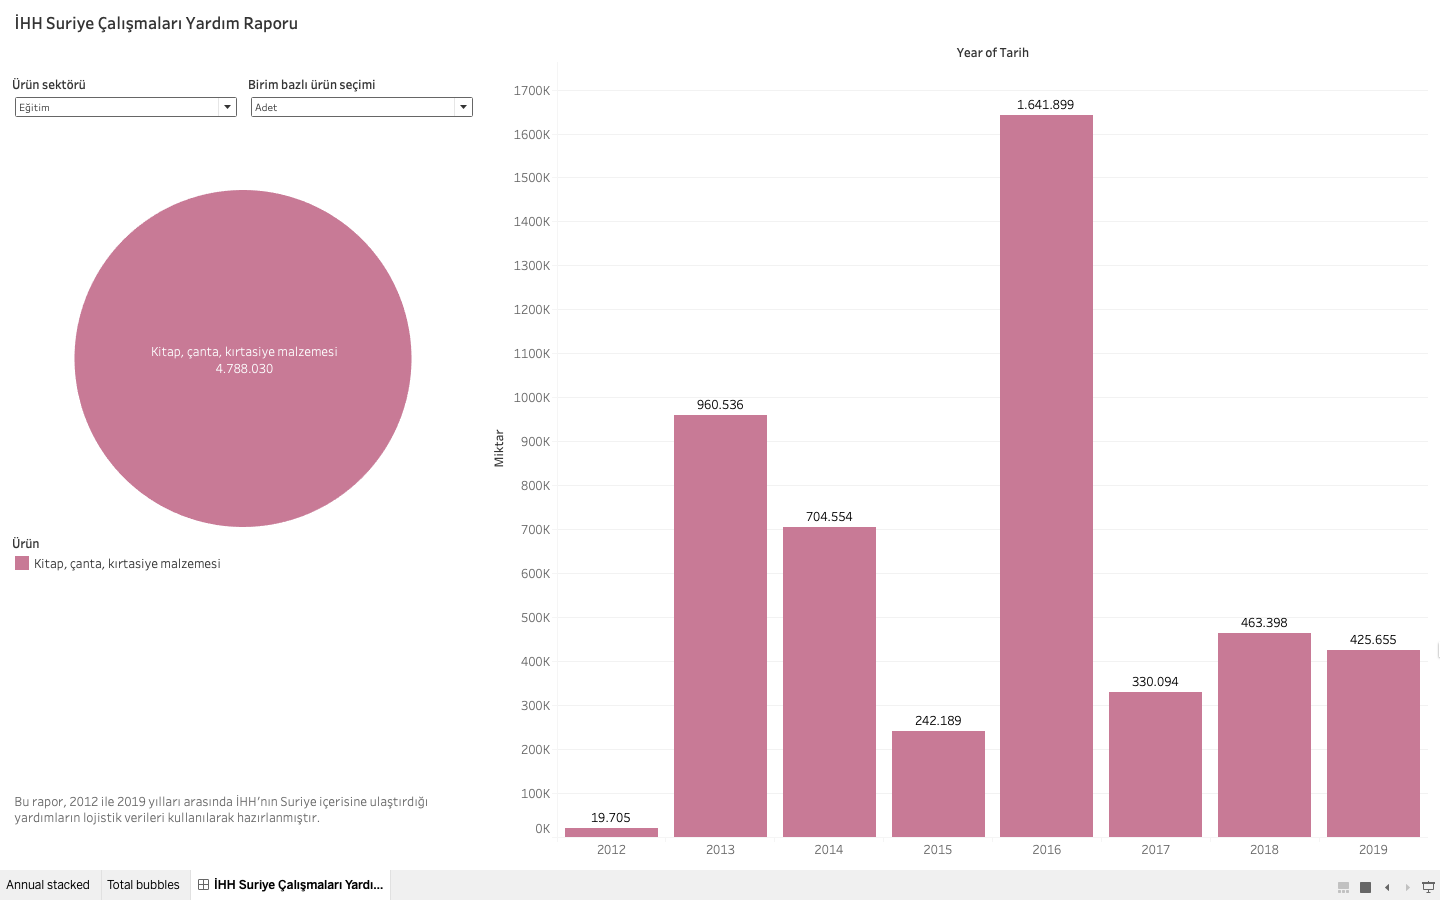

The page's visual inventory and layout, read from the dashboard file:
{"tool":"tableau","page":{"name":"İHH Suriye Çalışmaları Yardım Raporu","canvas":[1000,1000],"units":"permille","ordinal":0},"visuals":[{"type":"title","box":[6.5,9.9,987,37.1]},{"type":"blank","box":[6.5,47,326.8,39.4]},{"type":"worksheet","title":"Annual stacked","mark":"Bar","rows":["Miktar"],"cols":["Tarih"],"box":[333.3,47,660.2,943.1]},{"type":"filter","title":"Total bubbles","param":"[federated.1mxeqqh1x6fw6u15vb8dy1q2r8ap].[none:Sektör:nk]","box":[6.5,86.4,163.3,90.4]},{"type":"filter","title":"Total bubbles","param":"[federated.1mxeqqh1x6fw6u15vb8dy1q2r8ap].[none:Birim:nk]","box":[169.8,86.4,163.5,90.4]},{"type":"blank","box":[6.5,176.8,326.8,39.6]},{"type":"worksheet","title":"Total bubbles","mark":"Circle","box":[6.5,216.4,326.8,394.6]},{"type":"legend","title":"Total bubbles","param":"[federated.1mxeqqh1x6fw6u15vb8dy1q2r8ap].[none:Ürün:nk]","box":[6.5,611.1,326.8,258.9]},{"type":"text","box":[6.5,869.9,326.8,120.2]}]}

Visuals, with their boxes on the dashboard's canvas, which has no fixed pixel size, in thousandths of its width and height (x1, y1, x2, y2). These are canvas units, not pixel positions in the 1440x900 screenshot, which may show the page scaled, cropped or inside an application window:
title: bbox=(6, 10, 994, 47)
blank: bbox=(6, 47, 333, 86)
"Annual stacked" worksheet (Bar marks): bbox=(333, 47, 994, 990)
"Total bubbles" filter: bbox=(6, 86, 170, 177)
"Total bubbles" filter: bbox=(170, 86, 333, 177)
blank: bbox=(6, 177, 333, 216)
"Total bubbles" worksheet (Circle marks): bbox=(6, 216, 333, 611)
"Total bubbles" legend: bbox=(6, 611, 333, 870)
text: bbox=(6, 870, 333, 990)
